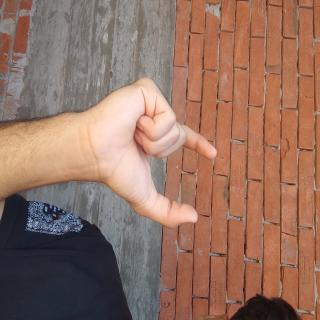NOON: (51, 131, 179, 320)
